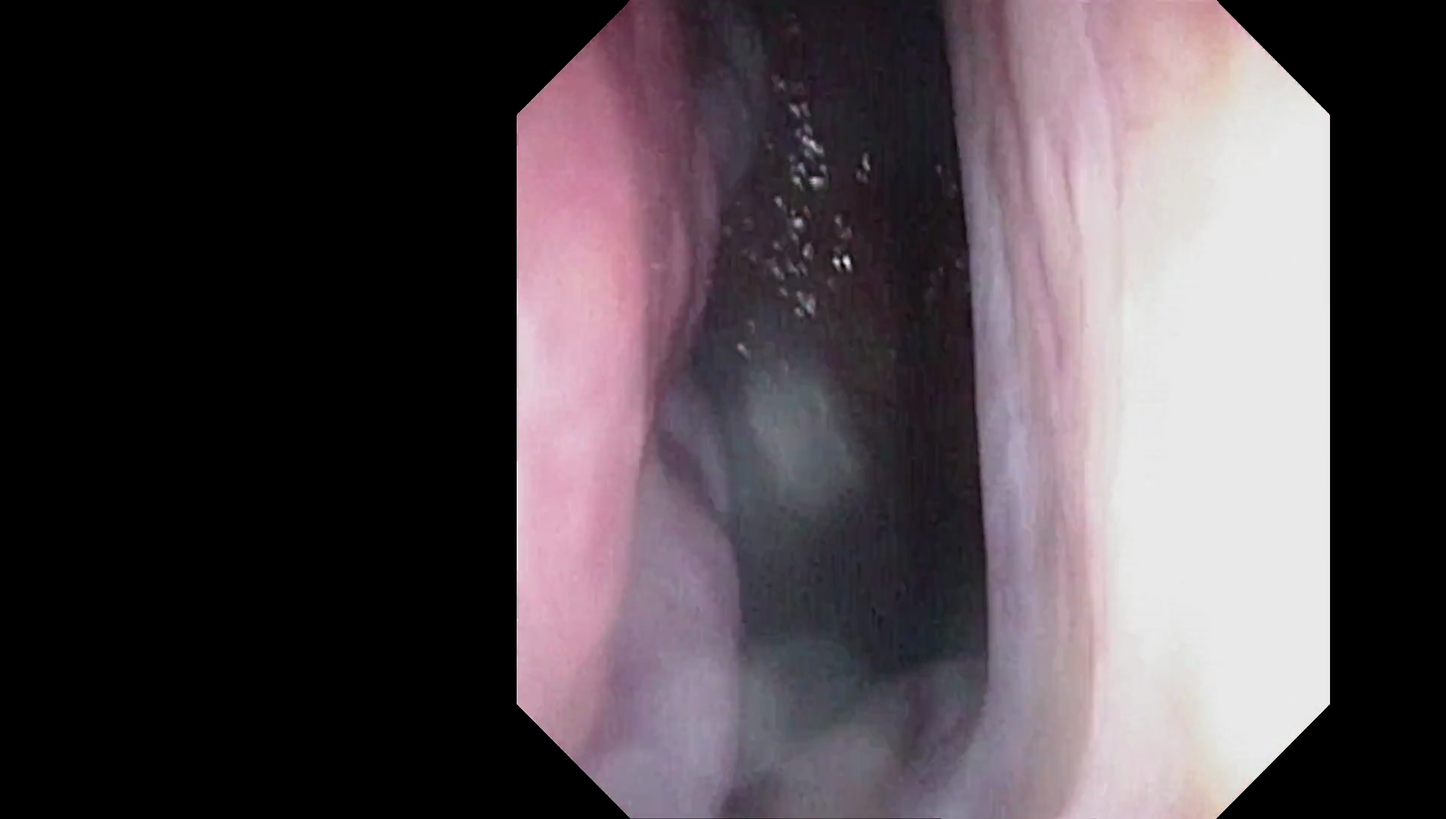close_wall: (971, 92, 1320, 706)
next: (752, 294, 1008, 698)
